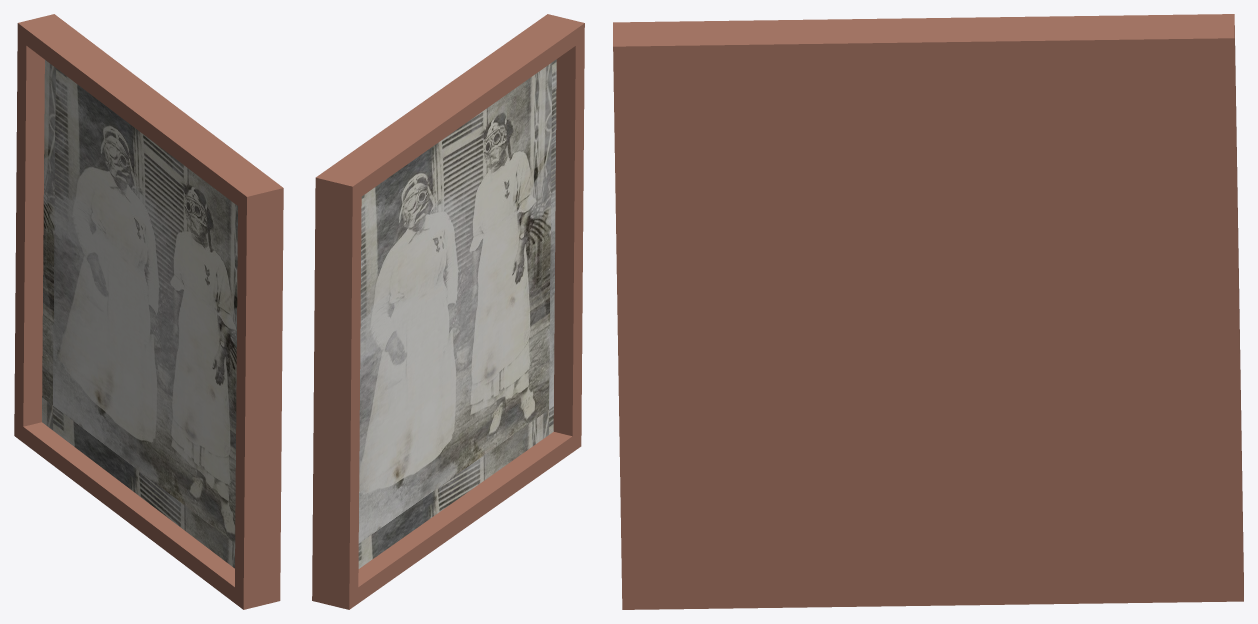
File: çerçeve(1).fbx
3 views of the same model, side by side, from view 1: azimuth 30°, elevation 25°; view 2: azimuth 150°, elevation 25°; view 3: azimuth 270°, elevation 25° (orthographic). The views are drawn at different scales.
Parts seen in each view (by area): view 1: Cube.022; view 2: Cube.022; view 3: Cube.022.
Boxes of the visible parts, x1=… form: Cube.022: x1=14, y1=14, x2=283, y2=609; Cube.022: x1=312, y1=14, x2=584, y2=609; Cube.022: x1=613, y1=14, x2=1243, y2=609.
Bounding box in the file's own units: 18.48 × 203 × 203.
